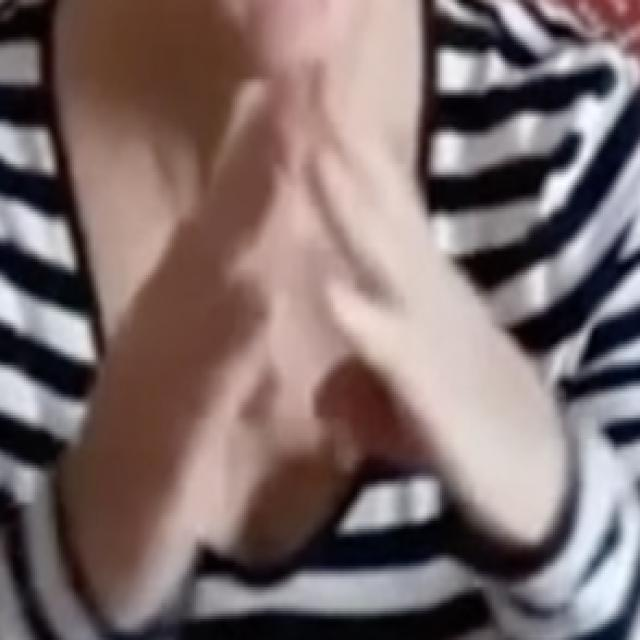casa: (65, 54, 556, 612)
